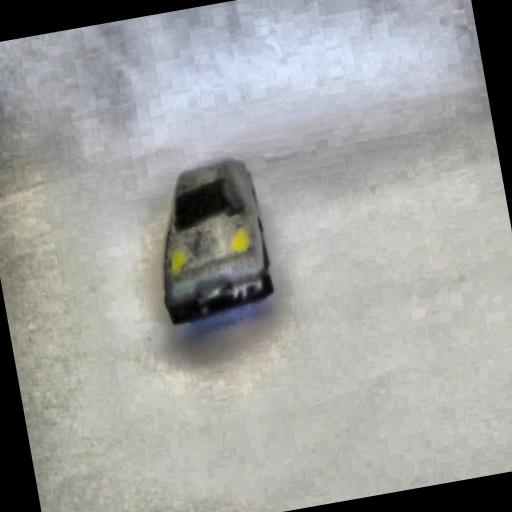normal_car: (138, 150, 283, 328)
